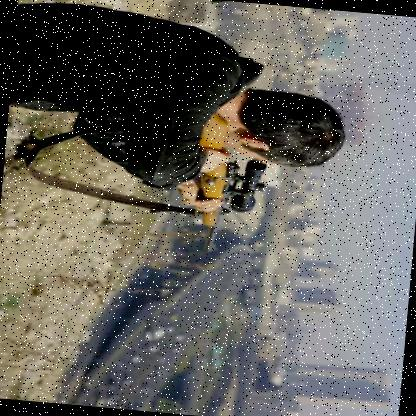rifle: (175, 104, 274, 263)
